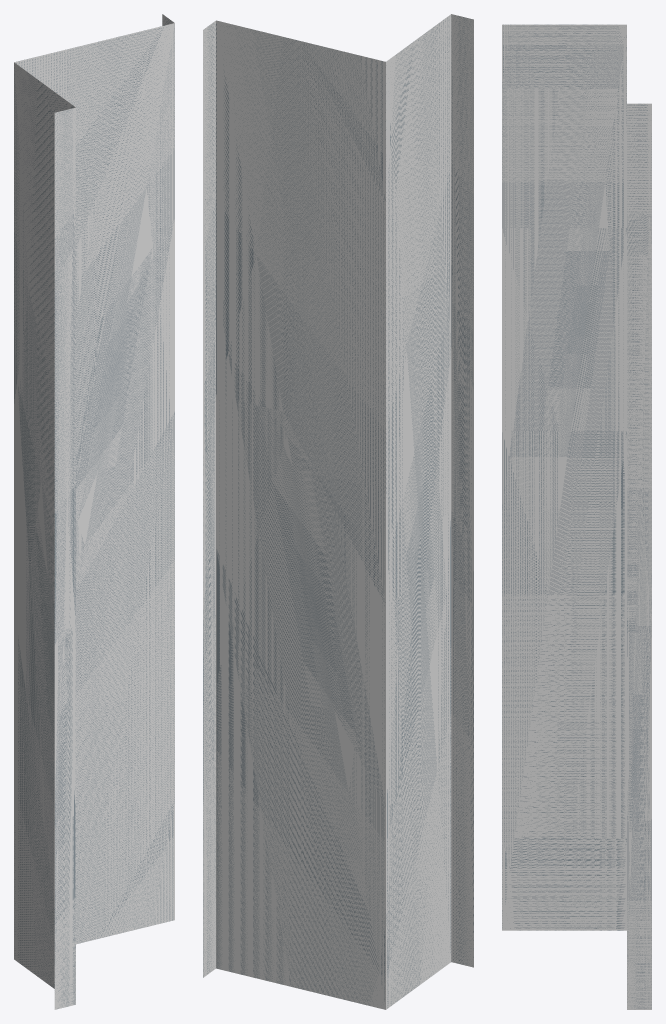
Rendered from PW_CornerFixElem_os_T3_060x085x010x400.dae.
3 renders of one model, left to right at view 1: azimuth 30°, elevation 25°; view 2: azimuth 150°, elevation 25°; view 3: azimuth 270°, elevation 25°, orthographic. The views are drawn at different scales.
Parts seen in each view (by area): view 1: group_0; view 2: group_0; view 3: group_0.
Boxes of the visible parts, left/top/right/bottom form: group_0: left=14, top=14, right=174, bottom=1009; group_0: left=203, top=14, right=473, bottom=1009; group_0: left=502, top=24, right=651, bottom=1009.
Size of the model in its own units: 33.46 by 23.62 by 157.
